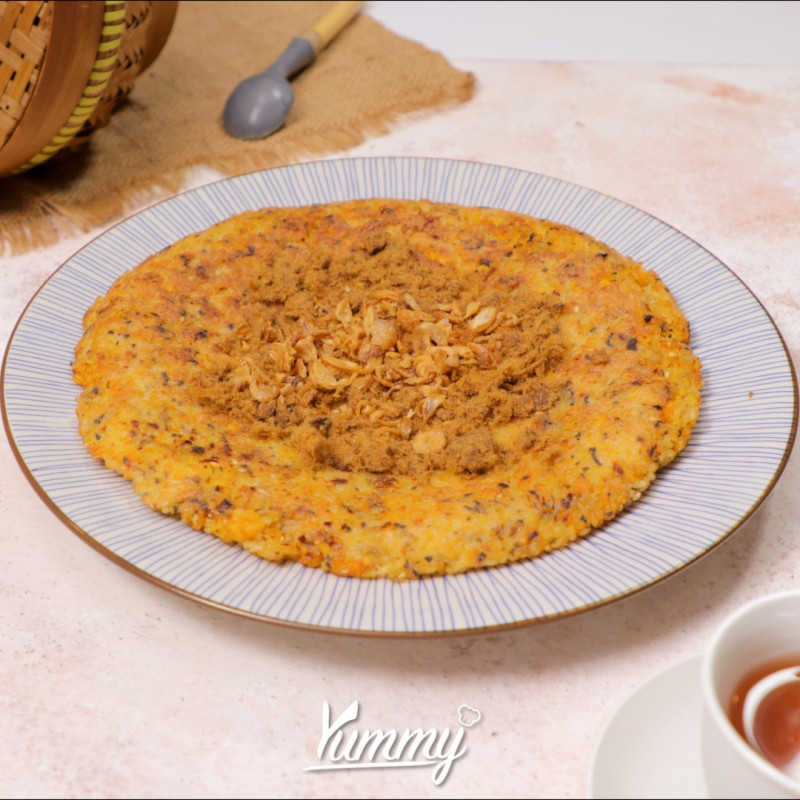kerak_telor: (52, 193, 717, 564)
